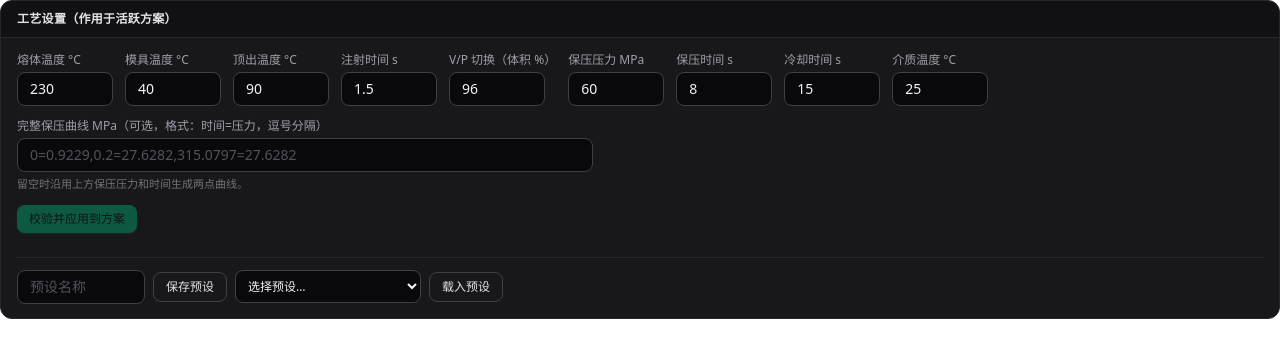
ProcessPanel › 内置预设常驻清单：选中即回填出厂默认，同名保存被拒
改几个字段后载入内置预设：整表回到出厂默认。
Step 1. Type "300" into the number field labelled "熔体温度 °C" → (65, 89), box [17,72,113,106]
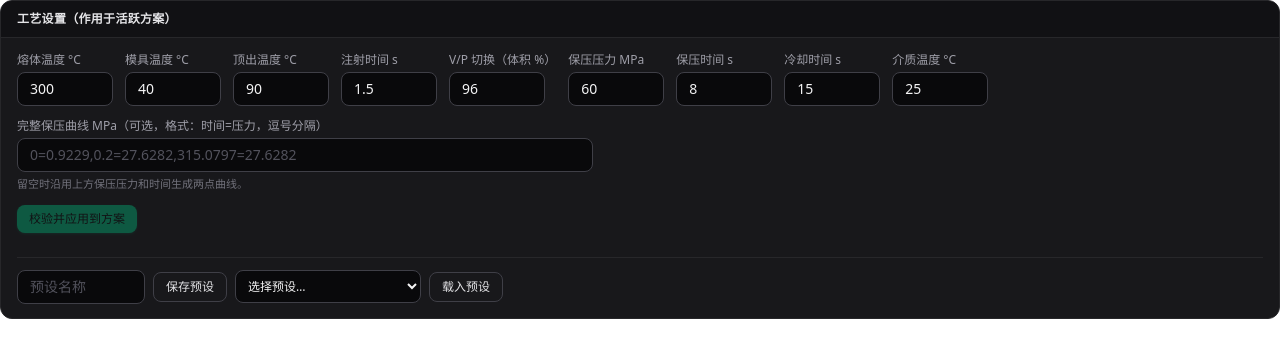
Step 2. Type "9" into the number field labelled "注射时间 s" → (389, 89), box [341,72,437,106]
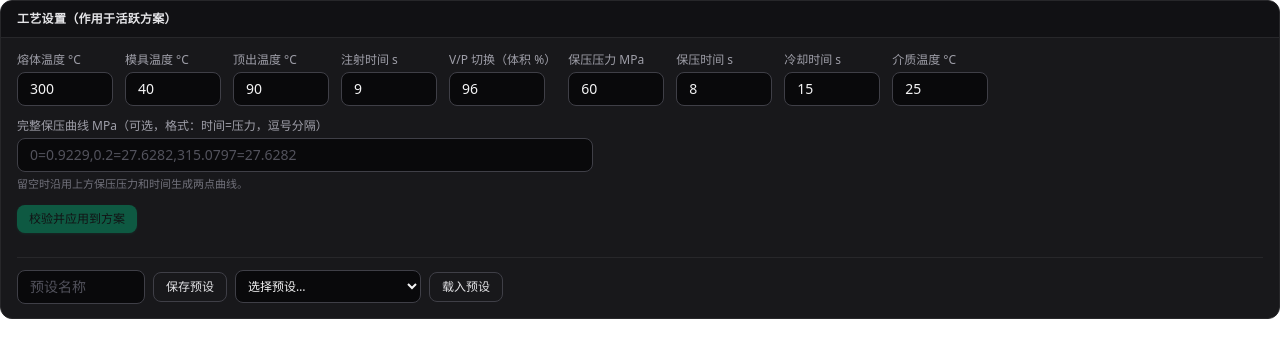
Step 3. Select "出厂默认" in the dropdown → (328, 286), box [235,270,421,303]
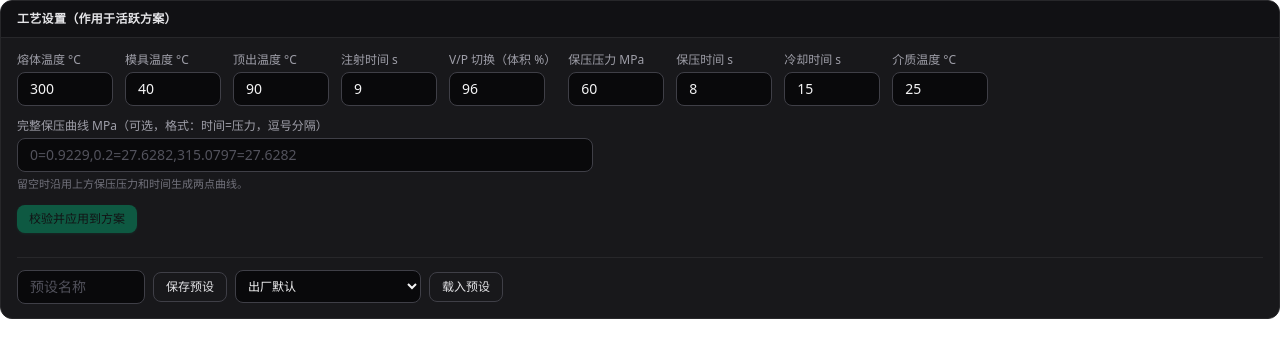
Step 4. Click the button "载入预设" → (466, 286), box [429,272,503,302]
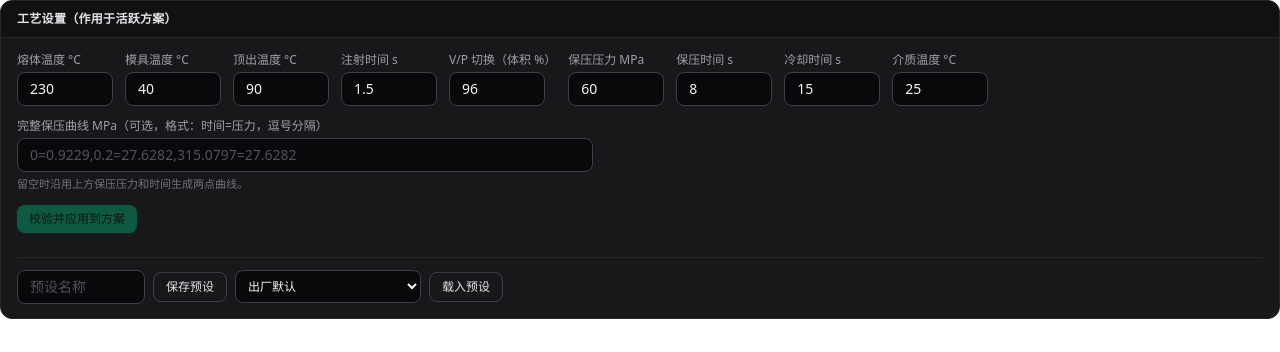
Expected: the number field labelled "熔体温度 °C" holds "230", [17,72,113,106]
Expected: the number field labelled "注射时间 s" holds "1.5", [341,72,437,106]
与内置预设重名：不写存储、清单不出现第二项，并给出提示。
Step 5. Type "出厂默认" into the field with placeholder "预设名称" → (81, 286), box [17,270,145,304]
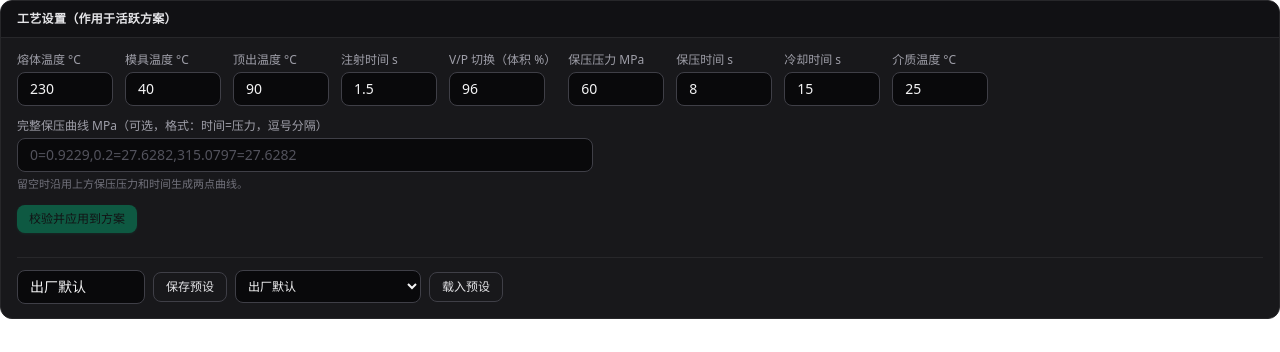
Step 6. Click the button "保存预设" → (190, 286), box [153,272,227,302]
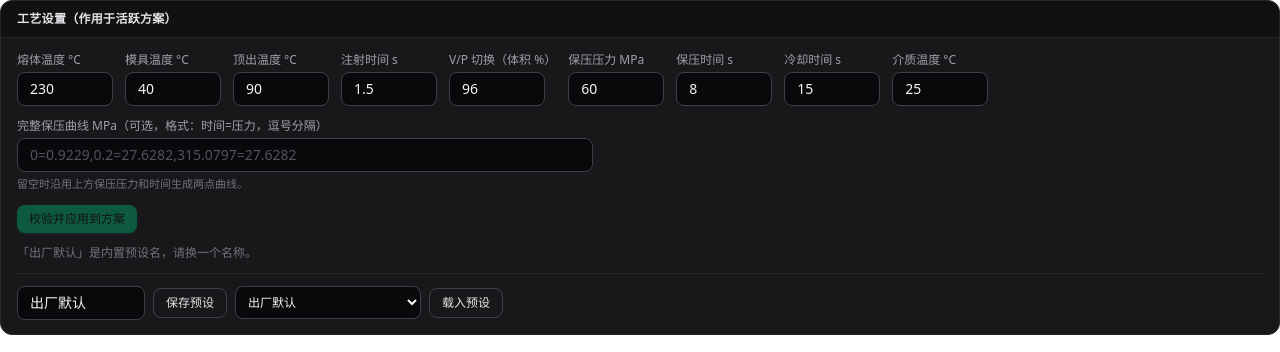
Expected: the text "是内置预设名" is shown, [17,244,257,260]
